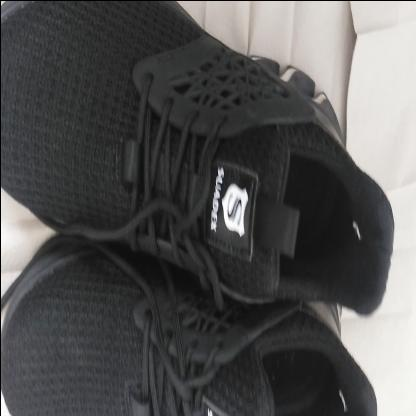safety-shoe: (0, 0, 395, 416)
